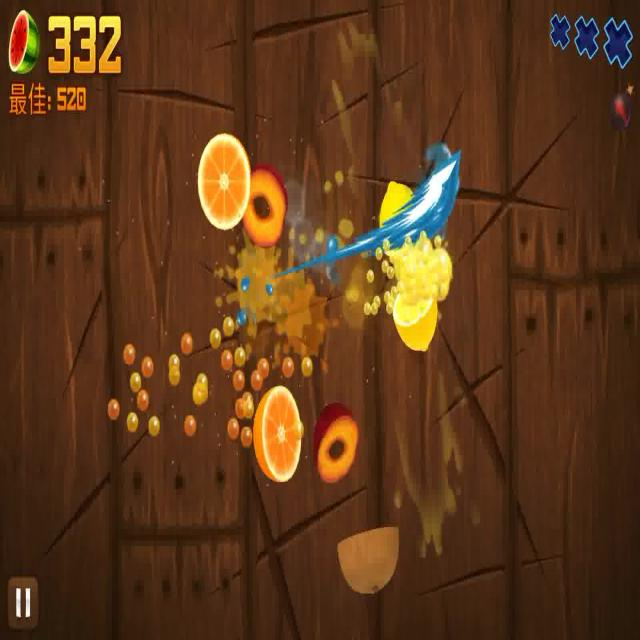fruit: (195, 133, 248, 230), (254, 388, 301, 480), (336, 530, 398, 592), (244, 163, 289, 247), (314, 403, 358, 484), (390, 285, 438, 354), (380, 178, 424, 250)
